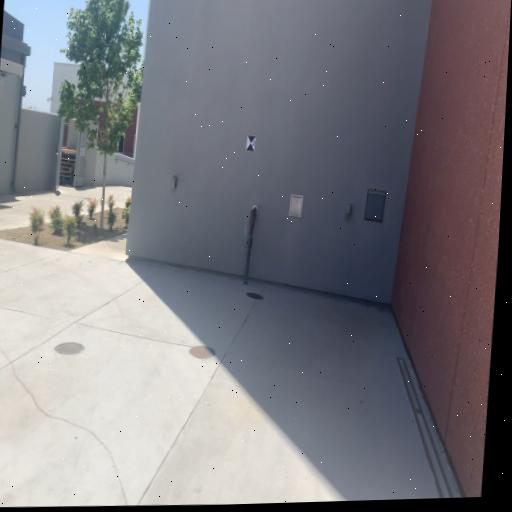target3: (246, 134, 256, 152)
